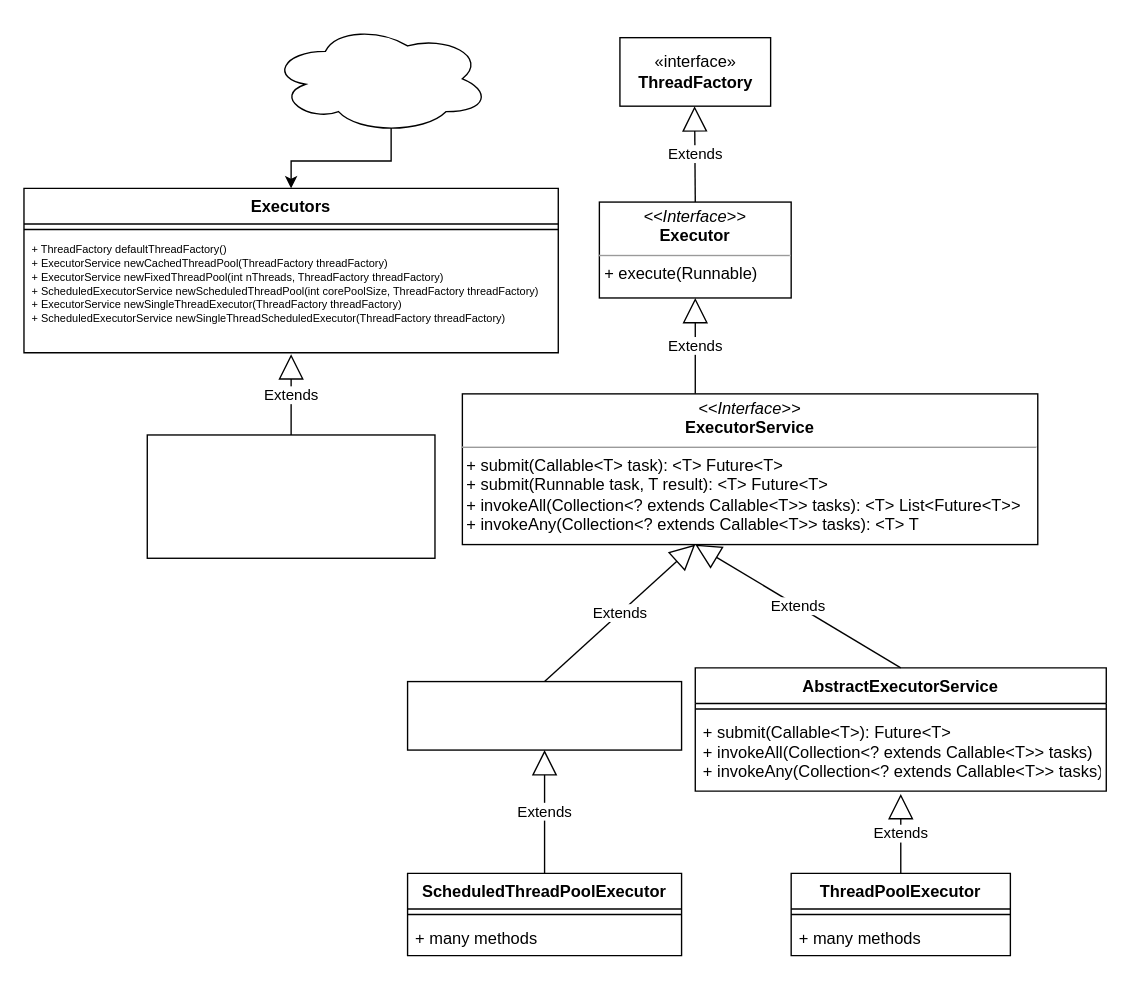
The diagram is 1130 pixels wide and 984 high, and some of its shapes have lost their labels. The centre of each missing label's shape, as x and y in pixels:
Custom Class: the point at 290,496
Static Utility class: the point at 379,78
«interface» ScheduledExecutorService: the point at 544,715
